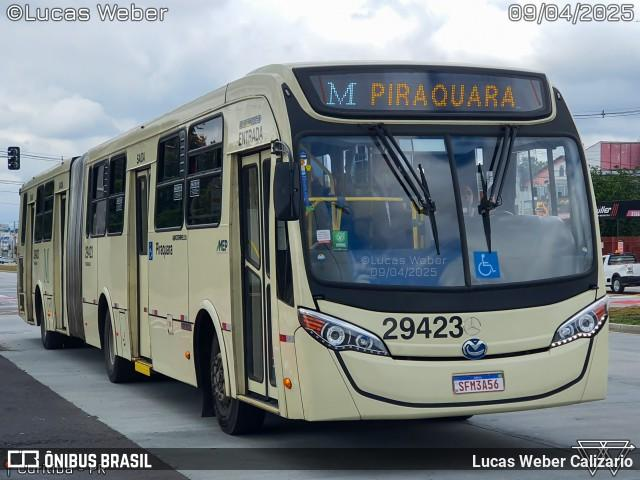PIRAQUARA: (365, 79, 523, 109)
